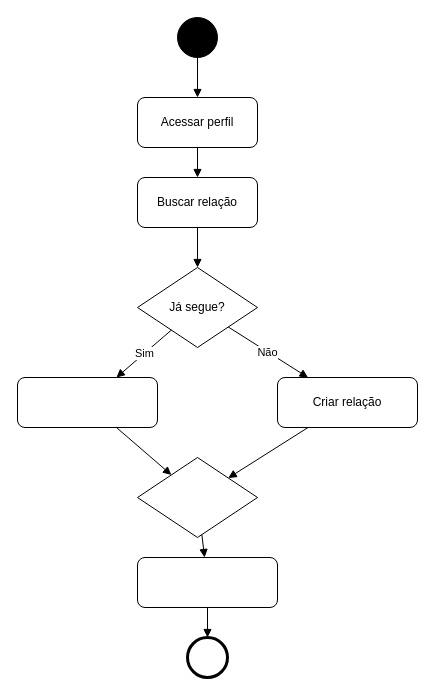
The diagram is 435 pixels wide and 696 high, and some of its shapes have lost their labels. The shapes that lost their labels are listed below. From the top down, each one's box as (x1, y1, x2, y2) in pixels, then its label:
(16, 376, 158, 428): Remover relação
(136, 556, 278, 608): Atualizar status
